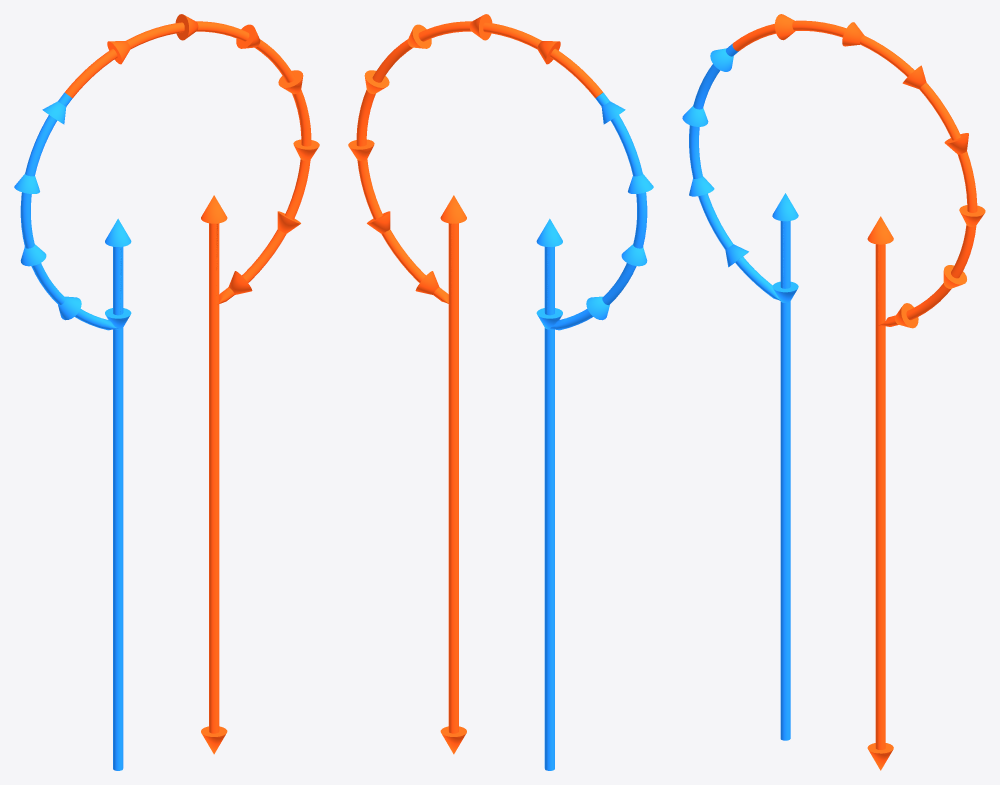
The model's file is peristaltic_pump_flow.glb.
The picture shows the model from 3 angles, left to right: view 1: azimuth 30°, elevation 25°; view 2: azimuth 150°, elevation 25°; view 3: azimuth 330°, elevation 25°; orthographic projection.
Parts seen in each view (by area): view 1: flow_out, flow_in; view 2: flow_out, flow_in; view 3: flow_out, flow_in.
Boxes of the visible parts, bbox=[...] form: flow_out: bbox=[65, 14, 319, 754]; flow_in: bbox=[14, 92, 131, 770]; flow_out: bbox=[348, 14, 602, 754]; flow_in: bbox=[536, 92, 653, 770]; flow_out: bbox=[732, 14, 985, 770]; flow_in: bbox=[682, 43, 798, 740].
Bounding box in the file's own units: 0.4091 × 0.9663 × 0.0312.
